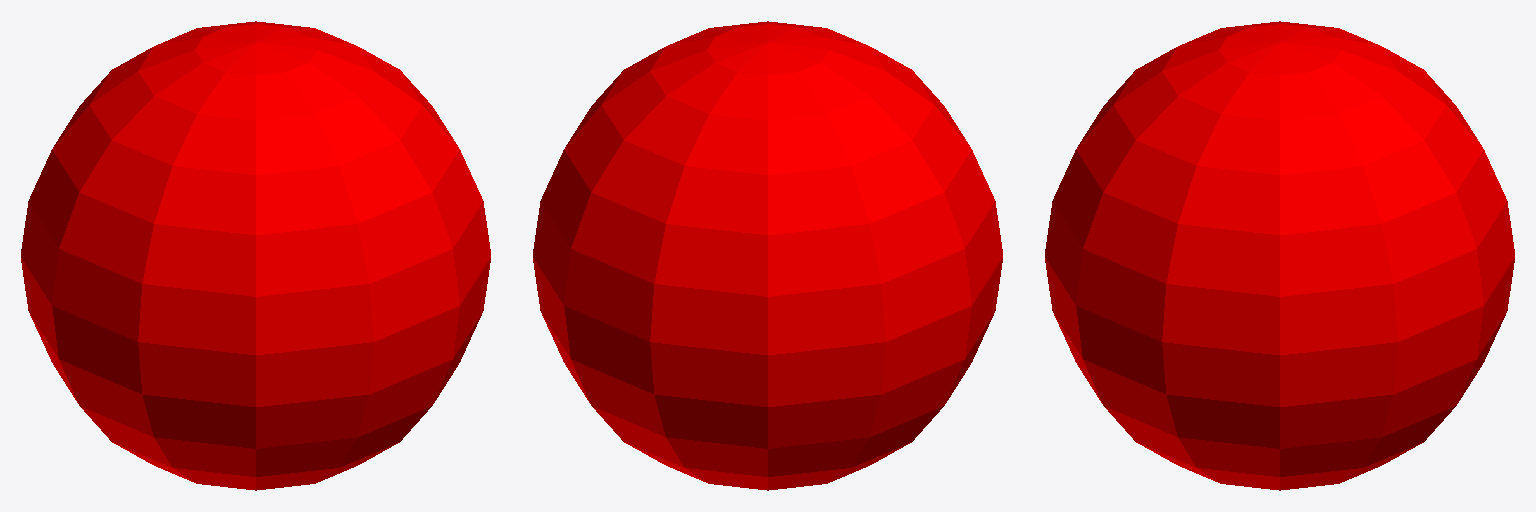
The model's file is simple_quad_sphere.obj.
The picture shows the model from 3 angles: view 1: azimuth 30°, elevation 25°; view 2: azimuth 150°, elevation 25°; view 3: azimuth 270°, elevation 25°; orthographic projection.
Visible parts, largest first — view 1: Sphere; view 2: Sphere; view 3: Sphere.
Boxes of the visible parts, box(x1,y1,x2,y2) form: Sphere: box(21, 21, 490, 490); Sphere: box(533, 21, 1002, 490); Sphere: box(1045, 21, 1514, 490).
Size of the model in its own units: 1.07 by 1.07 by 1.07.